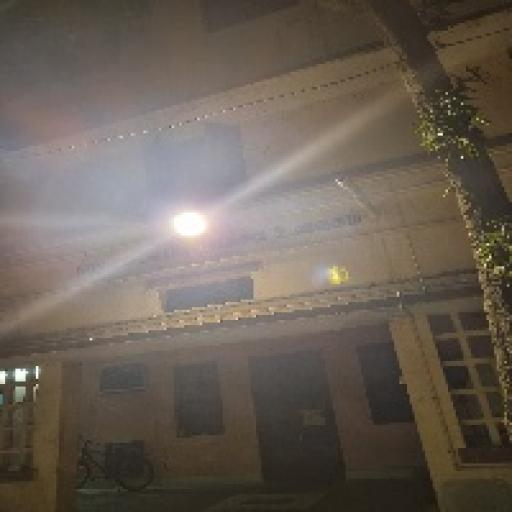Working: (164, 207, 221, 243)
